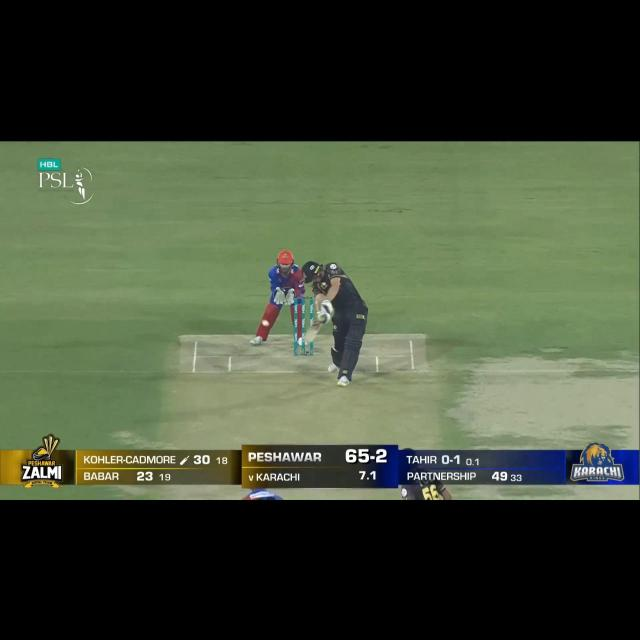bat: (303, 318, 323, 344)
toe: (304, 337, 315, 343)
